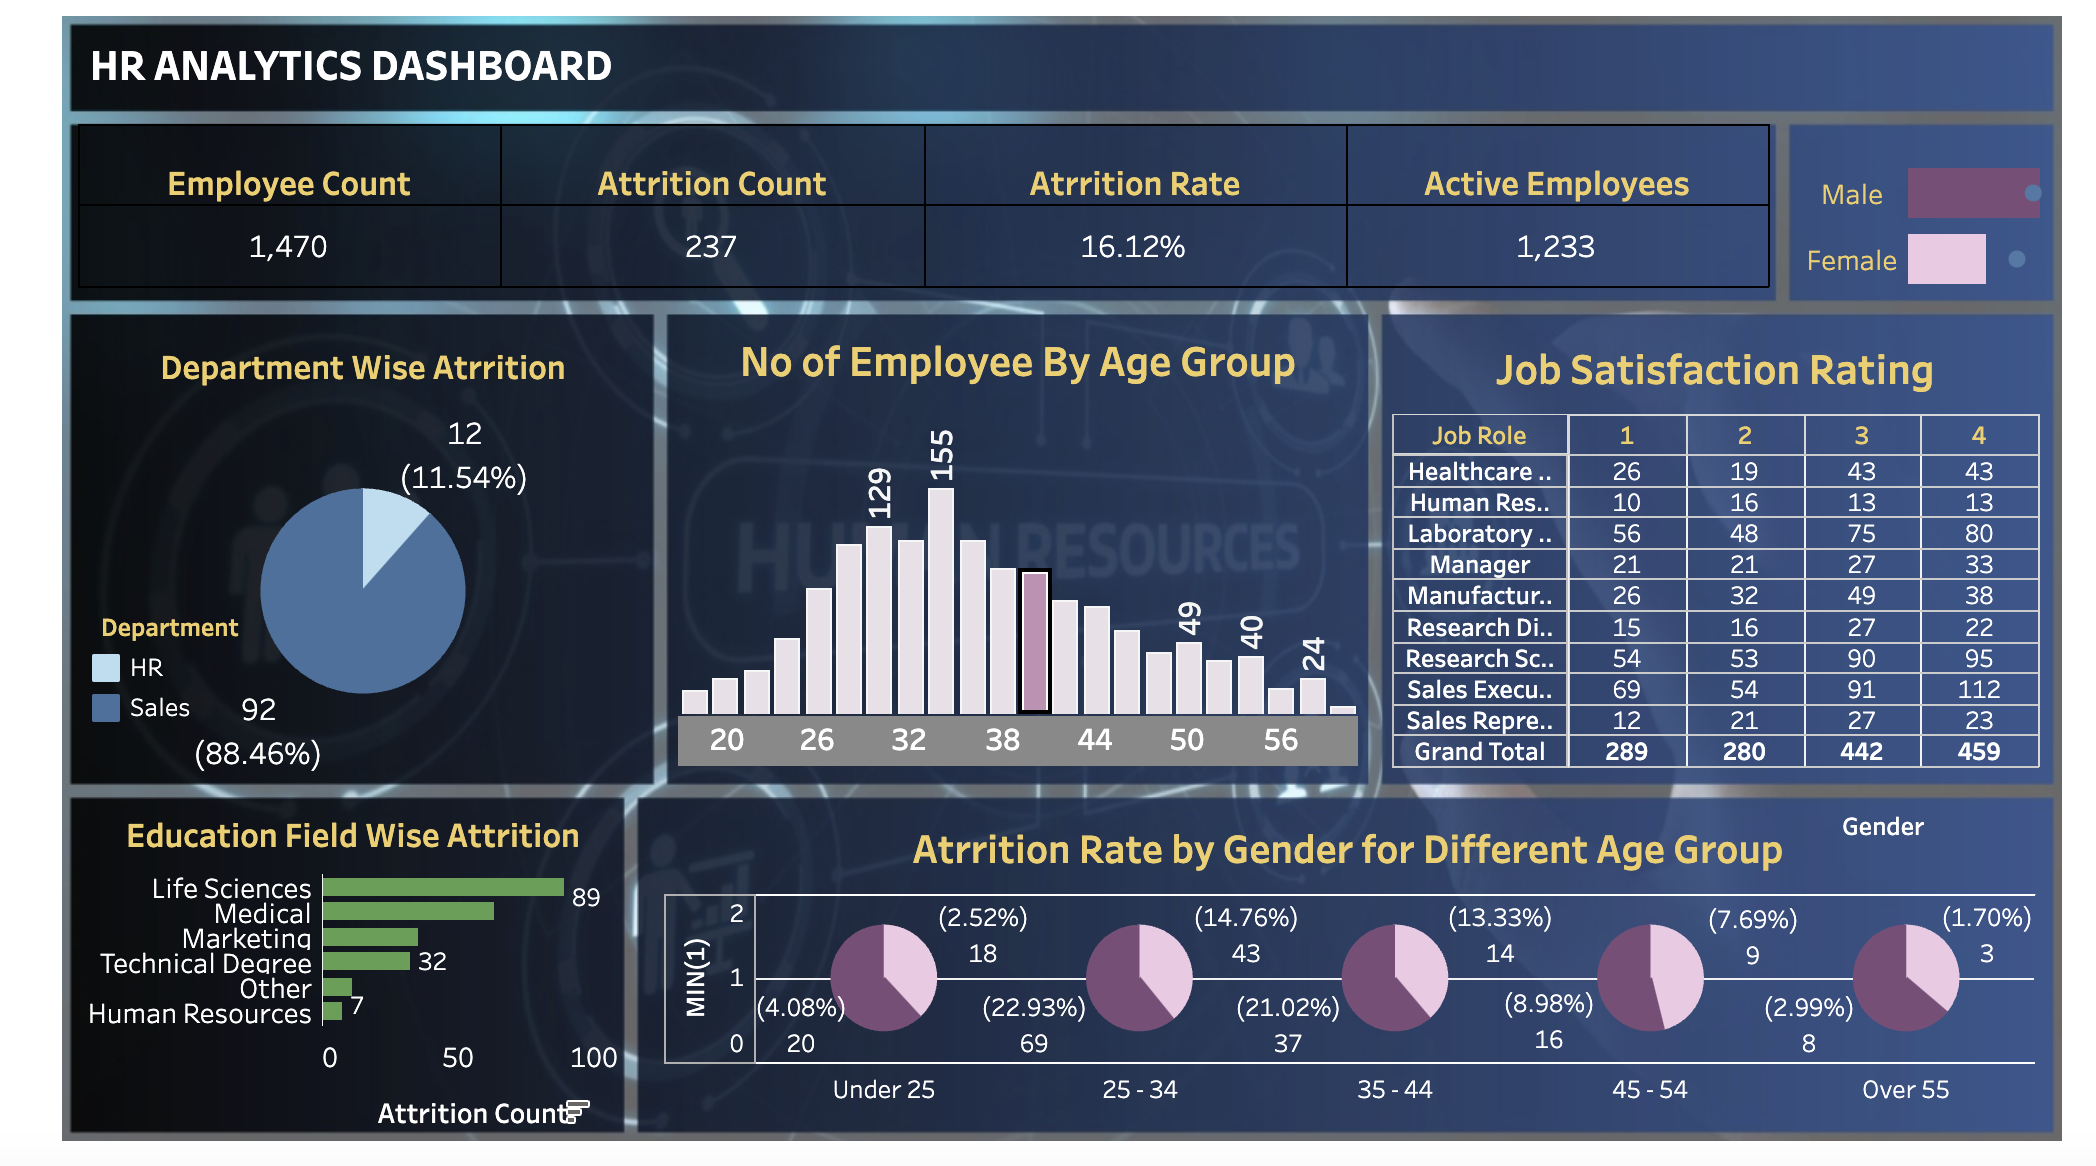

This screenshot's page, from the dashboard's own definition file:
{"tool":"tableau","page":{"name":"HR Analytics Dashboard","canvas":[1024,768],"ordinal":0},"visuals":[{"type":"image","param":"/Users/saumyajha/Desktop/HR background.pptx.png","box":[8,8,1008,752]},{"type":"text","box":[26,16,778,40]},{"type":"worksheet","title":"KPI","mark":"Automatic","box":[20,66,846,82]},{"type":"worksheet","title":"Attrition by gender","mark":"Automatic","rows":["Gender"],"cols":["Calculation_5905415433324187648","Calculation_5905415433325047809"],"box":[879,69,126,81]},{"type":"worksheet","title":"No of Employee By Age Group","mark":"Automatic","rows":["Employee Count"],"cols":["Age (bin)"],"box":[320,164,340,223]},{"type":"worksheet","title":"Job Satisfaction Rating","mark":"Automatic","rows":["Job Role"],"cols":["Job Satisfaction"],"box":[677,168,324,220]},{"type":"worksheet","title":"Department Wise Atrrition","mark":"Pie","box":[23,169,279,223]},{"type":"legend","title":"Department Wise Atrrition","param":"[federated.1yyyrti1a5ufzr1cj4r851ga0n5q].[none:Department:nk]","box":[24,309,84,78]},{"type":"worksheet","title":"Education Field Wise Attrition","mark":"Automatic","rows":["Education Field"],"cols":["Calculation_5905415433324187648"],"box":[22,403,271,172]},{"type":"legend","title":"Atrrition Rate by Gender for Different Age Group","param":"[federated.1yyyrti1a5ufzr1cj4r851ga0n5q].[none:Gender:nk]","box":[902,407,90,36]},{"type":"worksheet","title":"Atrrition Rate by Gender for Different Age Group","mark":"Pie","rows":["Calculation_6025957092465643521"],"cols":["CF_age band"],"box":[312,408,687,156]}]}

Visuals, with their boxes on the page's 1024x768 design canvas (x1, y1, x2, y2). These are canvas units, not pixel positions in the 2096x1166 screenshot, which may show the page scaled, cropped or inside an application window:
image: [left=8, top=8, right=1016, bottom=760]
text: [left=26, top=16, right=804, bottom=56]
"KPI" worksheet: [left=20, top=66, right=866, bottom=148]
"Attrition by gender" worksheet: [left=879, top=69, right=1005, bottom=150]
"No of Employee By Age Group" worksheet: [left=320, top=164, right=660, bottom=387]
"Job Satisfaction Rating" worksheet: [left=677, top=168, right=1001, bottom=388]
"Department Wise Atrrition" worksheet (Pie marks): [left=23, top=169, right=302, bottom=392]
"Department Wise Atrrition" legend: [left=24, top=309, right=108, bottom=387]
"Education Field Wise Attrition" worksheet: [left=22, top=403, right=293, bottom=575]
"Atrrition Rate by Gender for Different Age Group" legend: [left=902, top=407, right=992, bottom=443]
"Atrrition Rate by Gender for Different Age Group" worksheet (Pie marks): [left=312, top=408, right=999, bottom=564]
